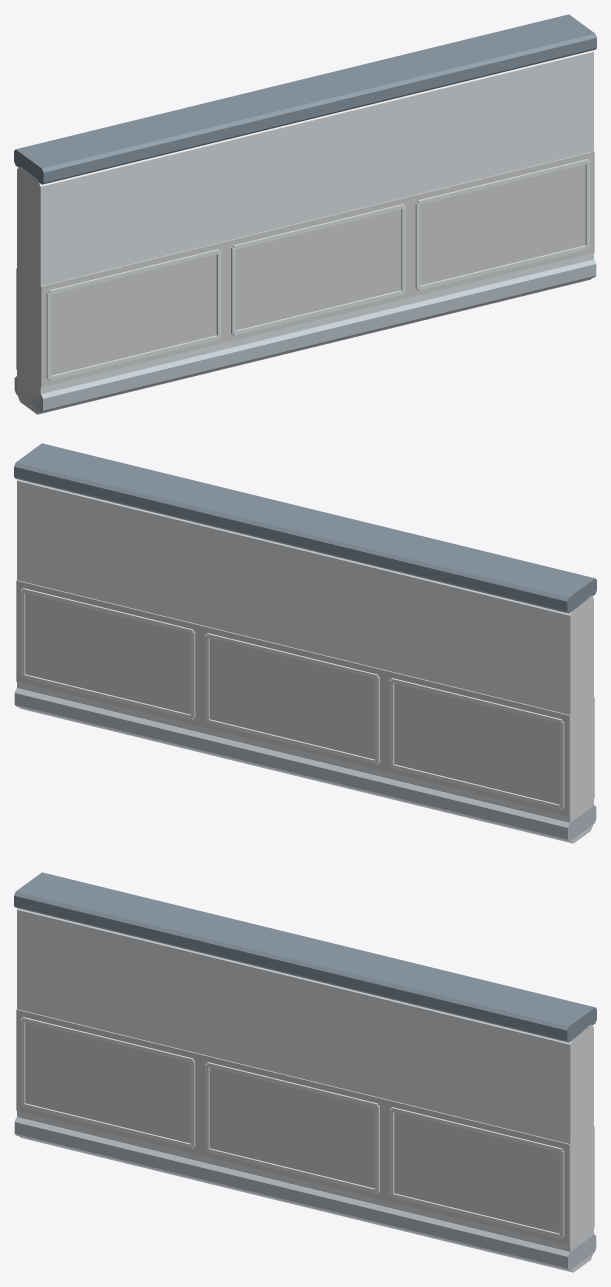
Rendered from wall_restaurant_lounge.glb.
The picture shows the model from 3 angles, top to bottom: view 1: azimuth 30°, elevation 25°; view 2: azimuth 150°, elevation 25°; view 3: azimuth 330°, elevation 25°; orthographic projection.
Parts seen in each view (by area): view 1: Part_001, Part_005, Part_002, Part_003, Part_009, Part_025, Part_007, Part_017, Part_023, Part_015; view 2: Part_001, Part_004, Part_002, Part_003, Part_024, Part_008, Part_006, Part_016, Part_014, Part_022; view 3: Part_001, Part_005, Part_002, Part_003, Part_009, Part_025, Part_023, Part_007, Part_017, Part_015.
Boxes of the visible parts, bbox=[...] form: Part_001: bbox=[17, 50, 593, 414]; Part_005: bbox=[40, 151, 594, 387]; Part_002: bbox=[14, 14, 596, 184]; Part_003: bbox=[14, 259, 596, 412]; Part_009: bbox=[48, 249, 219, 294]; Part_025: bbox=[417, 159, 588, 204]; Part_007: bbox=[48, 335, 219, 380]; Part_017: bbox=[233, 204, 404, 249]; Part_023: bbox=[417, 245, 588, 290]; Part_015: bbox=[233, 290, 404, 335]; Part_001: bbox=[17, 479, 593, 843]; Part_004: bbox=[16, 580, 570, 816]; Part_002: bbox=[14, 443, 596, 613]; Part_003: bbox=[14, 688, 596, 841]; Part_024: bbox=[22, 588, 193, 633]; Part_008: bbox=[391, 678, 562, 723]; Part_006: bbox=[391, 764, 562, 809]; Part_016: bbox=[206, 633, 377, 678]; Part_014: bbox=[206, 719, 377, 764]; Part_022: bbox=[22, 674, 193, 719]; Part_001: bbox=[17, 908, 593, 1272]; Part_005: bbox=[16, 1009, 570, 1245]; Part_002: bbox=[14, 872, 596, 1042]; Part_003: bbox=[14, 1117, 596, 1270]; Part_009: bbox=[22, 1017, 193, 1062]; Part_025: bbox=[391, 1107, 562, 1152]; Part_023: bbox=[391, 1193, 562, 1238]; Part_007: bbox=[22, 1103, 193, 1148]; Part_017: bbox=[206, 1062, 377, 1107]; Part_015: bbox=[206, 1148, 377, 1193].
Bounding box in the file's own units: 2.7 × 1.16 × 0.25.
